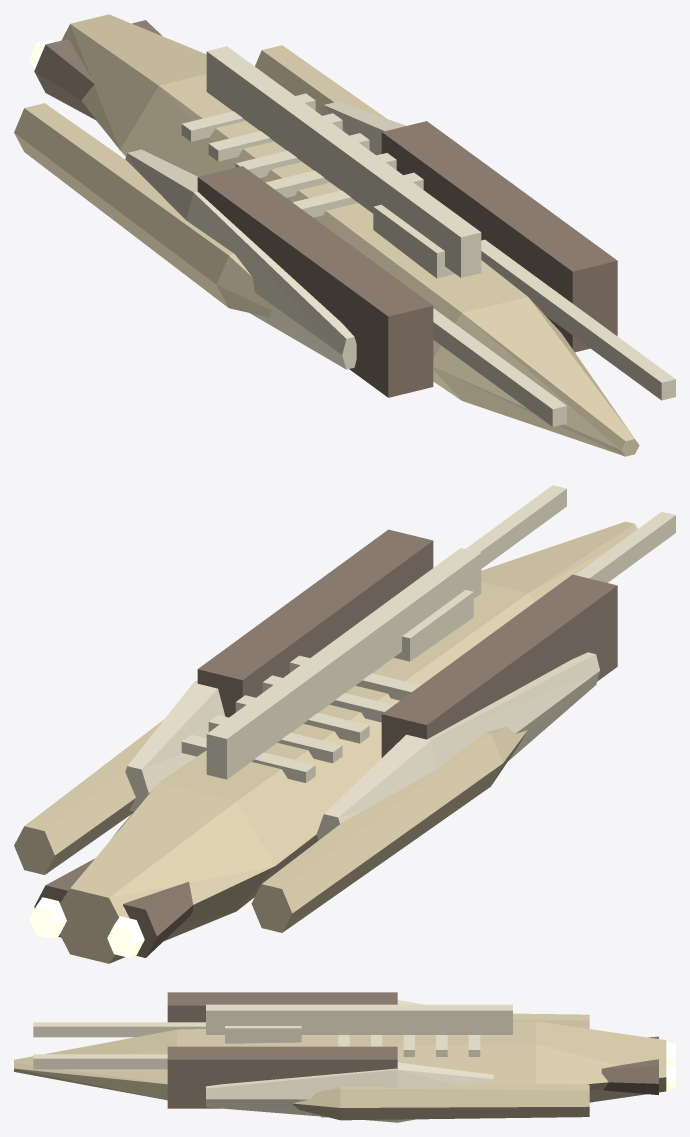
The picture shows the model from 3 angles, top to bottom: view 1: azimuth 30°, elevation 25°; view 2: azimuth 150°, elevation 25°; view 3: azimuth 270°, elevation 25°; orthographic projection. The views are drawn at different scales.
Size of the model in its own units: 2.27 by 1.15 by 7.52.
